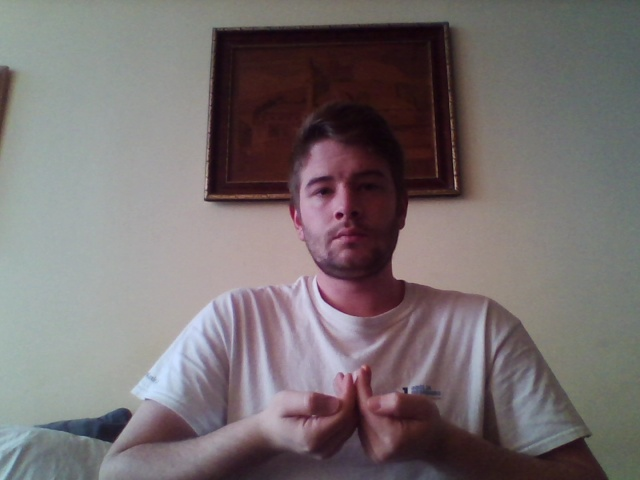kako: (263, 363, 449, 462)
